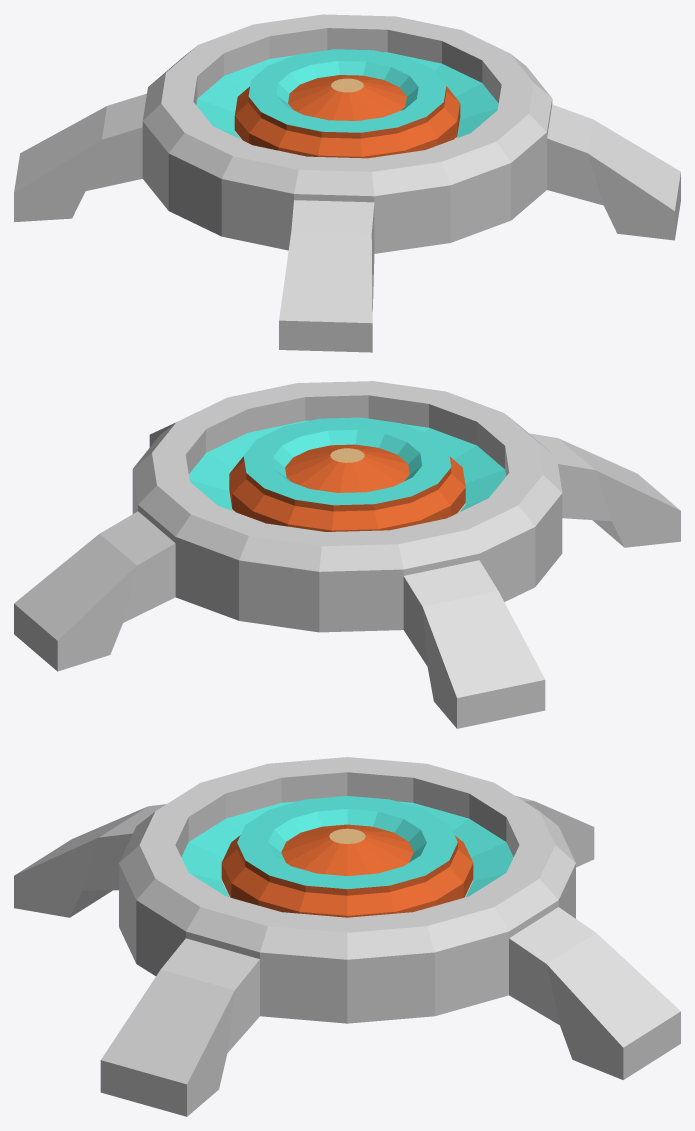
Rendered from turret_base.glb.
3 renders of one model, top to bottom at view 1: azimuth 30°, elevation 25°; view 2: azimuth 150°, elevation 25°; view 3: azimuth 270°, elevation 25°, orthographic. The views are drawn at different scales.
Visible parts, largest first — view 1: Cylinder.001; view 2: Cylinder.001; view 3: Cylinder.001.
Part boxes in pixels (box(x1,y1,x2,y2)): Cylinder.001: box(14, 14, 680, 352); Cylinder.001: box(14, 381, 680, 728); Cylinder.001: box(14, 757, 680, 1116).
Bounding box in the file's own units: 2.92 × 0.6739 × 2.92.
